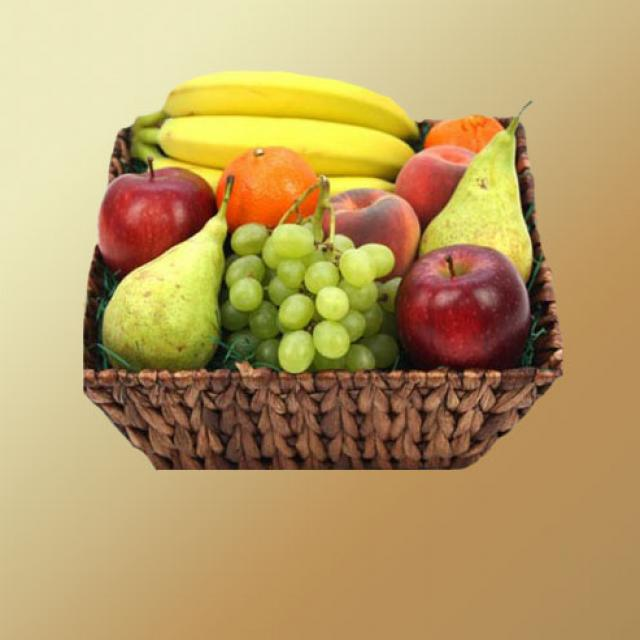apple: (398, 241, 528, 370), (94, 166, 218, 271)
banana: (123, 69, 408, 195)
grape: (218, 199, 400, 376)
orange: (220, 146, 316, 222), (422, 110, 501, 153)
peach: (312, 186, 424, 276), (394, 144, 476, 219)
pear: (98, 184, 224, 377), (424, 105, 534, 281)
